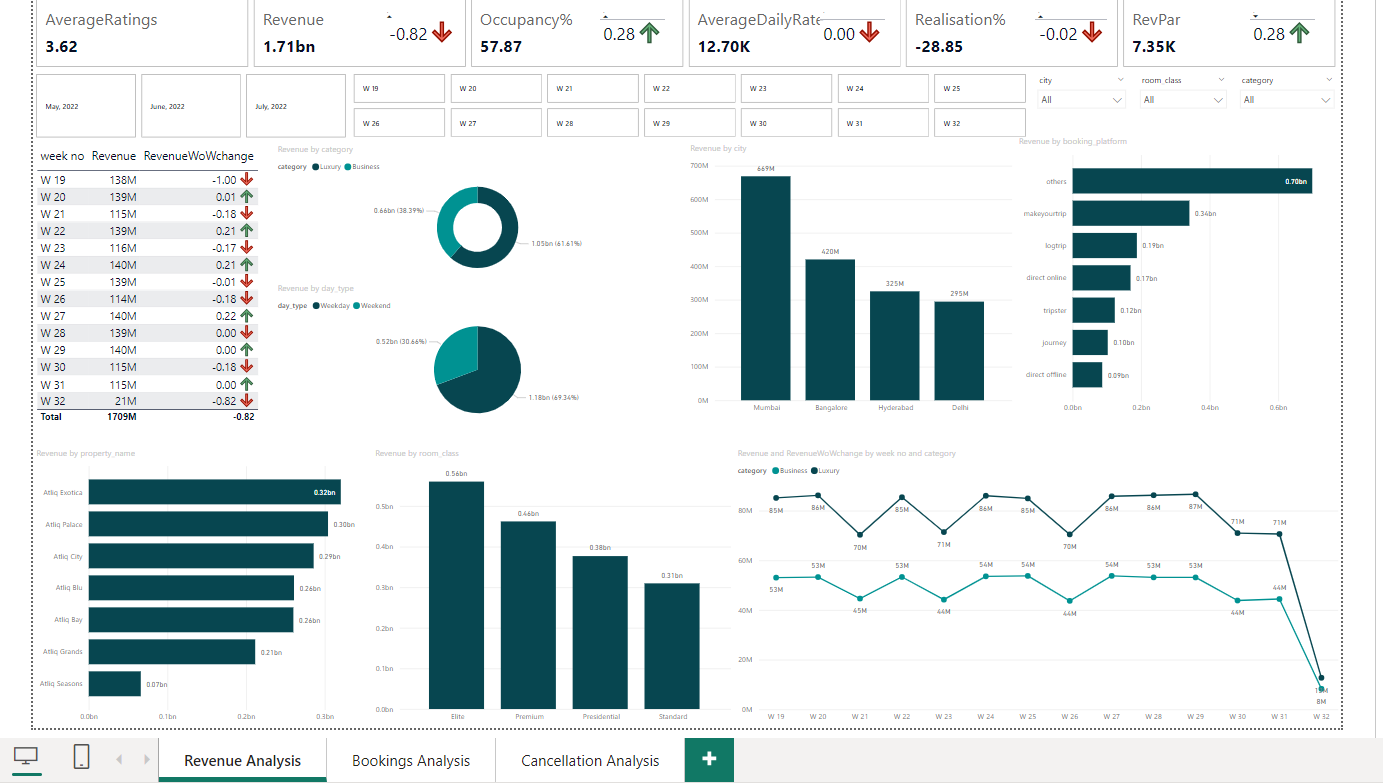

The dashboard page shown, as its layout file describes it:
{"tool":"powerbi","page":{"name":"Revenue Analysis","canvas":[1920,1080],"ordinal":0},"visuals":[{"type":"slicer","fields":{"Values":["Dim_hotel.city"]},"box":[1463.8,115,150,103.8],"z":0},{"type":"slicer","fields":{"Values":["Dim_room.room_class"]},"box":[1613.8,115,147.5,103.8],"z":1000},{"type":"slicer","fields":{"Values":["Dim_hotel.category"]},"box":[1761.2,115,158.8,103.8],"z":2000},{"type":"advancedSlicerVisual","fields":{"Values":["Dim_date.mmm yy"]},"box":[0,115,466.2,103.8],"z":3000},{"type":"advancedSlicerVisual","fields":{"Values":["Dim_date.week no"]},"box":[466.2,115,997.5,103.8],"z":4000},{"type":"cardVisual","fields":{"Data":["_Measure.AverageRatings","_Measure.Revenue","_Measure.Occupancy%","_Measure.AverageDailyRate","_Measure.Realisation%","_Measure.RevPar"]},"box":[0,0,1920,115],"z":5000},{"type":"tableEx","fields":{"Values":["_Measure.RevenueWoWchange"]},"box":[507.5,12.5,123.8,80],"z":6000},{"type":"tableEx","fields":{"Values":["_Measure.OccupanctWoWchange%"]},"box":[825,12.5,125,81.2],"z":7000},{"type":"tableEx","fields":{"Values":["_Measure.RealisationWoWchange%"]},"box":[1463.8,12.5,123.8,80],"z":8000},{"type":"tableEx","fields":{"Values":["_Measure.RevparWoWChange%"]},"box":[1780,12.5,123.8,80],"z":9000},{"type":"tableEx","fields":{"Values":["_Measure.ADRWoWchange%"]},"box":[1147.5,12.5,123.8,80],"z":10000},{"type":"pieChart","fields":{"Category":["Dim_date.day_type"],"Y":["_Measure.Revenue"]},"box":[354.6,424.9,596.9,214.2],"z":11000},{"type":"donutChart","fields":{"Y":["_Measure.Revenue"],"Category":["Dim_hotel.category"]},"box":[354.6,221.2,596.9,203.7],"z":12000},{"type":"barChart","fields":{"Y":["_Measure.Revenue"],"Category":["Fact_bookings.booking_platform"]},"box":[1441.7,210.9,478.7,416.4],"z":13000},{"type":"lineChart","fields":{"Series":["Dim_hotel.category"],"Y":["_Measure.Revenue"],"Category":["Dim_date.week no"]},"box":[1029,667.7,891.4,412.7],"z":14000},{"type":"barChart","fields":{"Category":["Dim_hotel.property_name"],"Y":["_Measure.Revenue"]},"box":[0,667.7,497.1,412.7],"z":15000},{"type":"clusteredColumnChart","fields":{"Y":["_Measure.Revenue"],"Category":["Dim_hotel.city"]},"box":[959.3,220.1,482.4,407.2],"z":16000},{"type":"clusteredColumnChart","fields":{"Y":["_Measure.Revenue"],"Category":["Dim_room.room_class"]},"box":[497.1,667.7,531.9,412.7],"z":17000},{"type":"tableEx","fields":{"Values":["Dim_date.week no","_Measure.Revenue","_Measure.RevenueWoWchange"]},"box":[0,221.9,354,449.4],"z":18000}]}

Visuals, with their boxes on the page's 1920x1080 design canvas (x1, y1, x2, y2). These are canvas units, not pixel positions in the 1383x783 screenshot, which may show the page scaled, cropped or inside an application window:
slicer - Dim_hotel.city: [1464, 115, 1614, 219]
slicer - Dim_room.room_class: [1614, 115, 1761, 219]
slicer - Dim_hotel.category: [1761, 115, 1920, 219]
advancedSlicerVisual - Dim_date.mmm yy: [0, 115, 466, 219]
advancedSlicerVisual - Dim_date.week no: [466, 115, 1464, 219]
cardVisual - _Measure.AverageRatings x _Measure.Revenue: [0, 0, 1920, 115]
tableEx - _Measure.RevenueWoWchange: [508, 12, 631, 92]
tableEx - _Measure.OccupanctWoWchange%: [825, 12, 950, 94]
tableEx - _Measure.RealisationWoWchange%: [1464, 12, 1588, 92]
tableEx - _Measure.RevparWoWChange%: [1780, 12, 1904, 92]
tableEx - _Measure.ADRWoWchange%: [1148, 12, 1271, 92]
pieChart - Dim_date.day_type x _Measure.Revenue: [355, 425, 952, 639]
donutChart - _Measure.Revenue x Dim_hotel.category: [355, 221, 952, 425]
barChart - _Measure.Revenue x Fact_bookings.booking_platform: [1442, 211, 1920, 627]
lineChart - Dim_hotel.category x _Measure.Revenue: [1029, 668, 1920, 1080]
barChart - Dim_hotel.property_name x _Measure.Revenue: [0, 668, 497, 1080]
clusteredColumnChart - _Measure.Revenue x Dim_hotel.city: [959, 220, 1442, 627]
clusteredColumnChart - _Measure.Revenue x Dim_room.room_class: [497, 668, 1029, 1080]
tableEx - Dim_date.week no x _Measure.Revenue: [0, 222, 354, 671]
